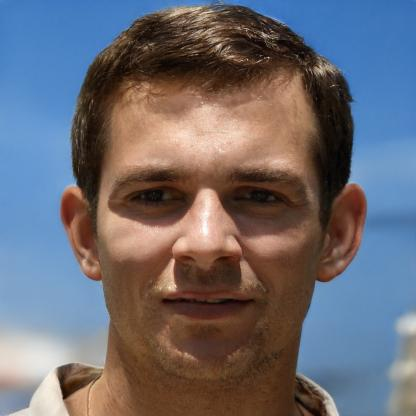eyeee: (114, 185, 192, 207), (226, 186, 297, 208)
mouthhz: (160, 286, 257, 324)
nosebb: (170, 190, 244, 269)
